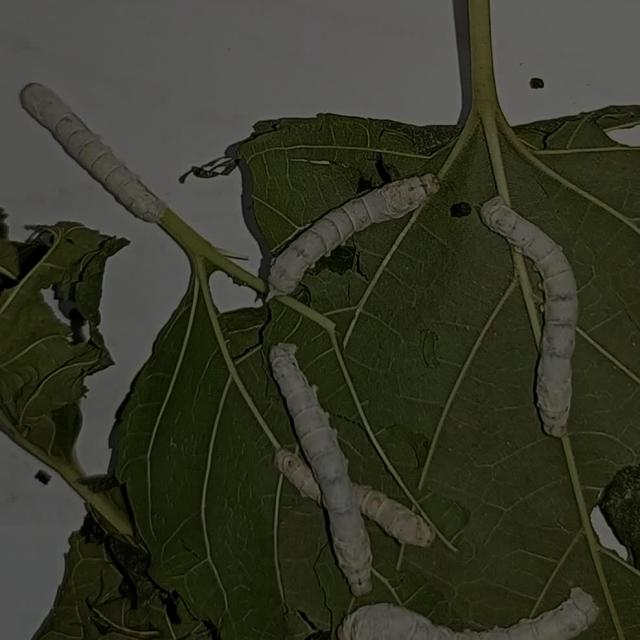Healthy: (249, 332, 387, 597), (468, 190, 596, 447), (249, 162, 443, 303), (13, 72, 166, 226)
